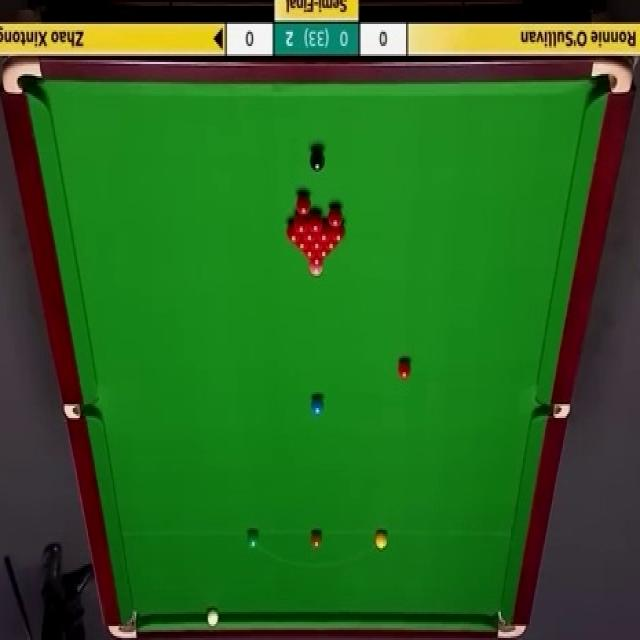black-ball: (310, 150, 324, 172)
blue-ball: (310, 397, 324, 418)
brown-ball: (310, 529, 323, 551)
green-ball: (247, 530, 260, 551)
pink-ball: (306, 264, 324, 278)
red-ball: (327, 207, 341, 228), (398, 358, 412, 379), (297, 194, 310, 216), (286, 225, 300, 244), (294, 212, 306, 234), (317, 222, 330, 242), (295, 230, 307, 251), (331, 223, 345, 241), (309, 213, 322, 232), (303, 221, 315, 241), (324, 242, 338, 250), (307, 242, 324, 248)
white-ball: (207, 608, 220, 626)
yellow-ball: (375, 530, 387, 550)
